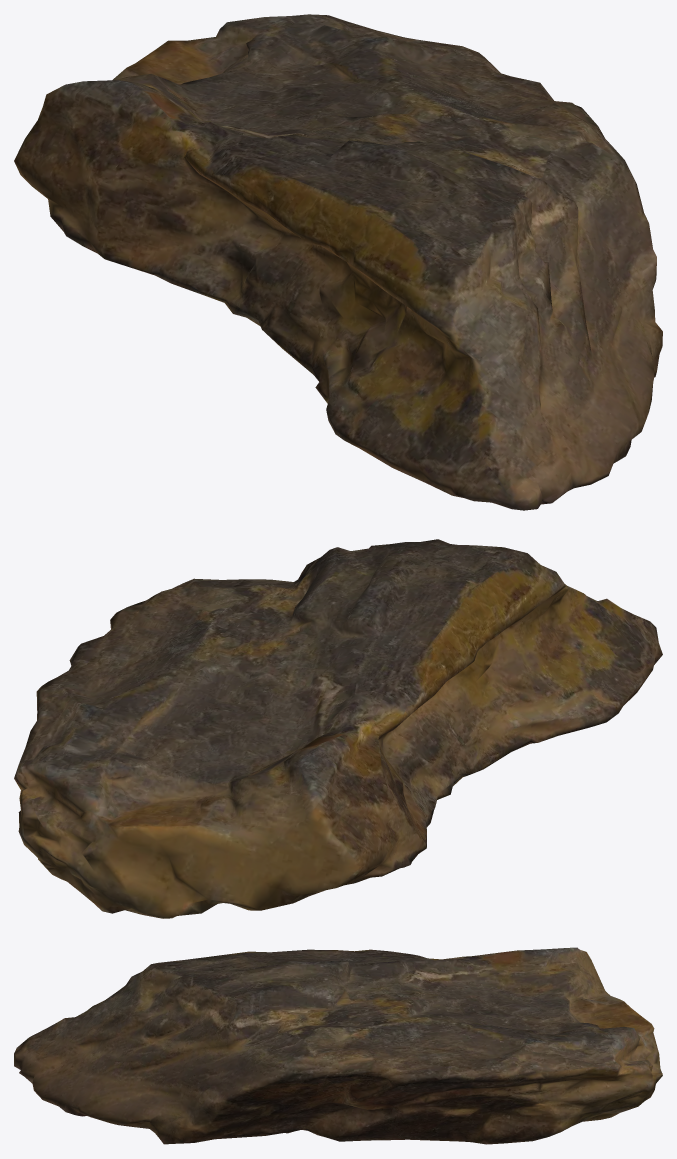
3 views of the same model, one above another, from view 1: azimuth 30°, elevation 25°; view 2: azimuth 150°, elevation 25°; view 3: azimuth 270°, elevation 25° (orthographic). The views are drawn at different scales.
Visible parts, largest first — view 1: rock_09_LOD0; view 2: rock_09_LOD0; view 3: rock_09_LOD0.
Part boxes in pixels (<box>): rock_09_LOD0: <box>14,14,662,510</box>; rock_09_LOD0: <box>14,539,662,918</box>; rock_09_LOD0: <box>14,947,662,1144</box>.
Size of the model in its own units: 0.0739 by 0.0328 by 0.1446.
1 material, 1 textured.
